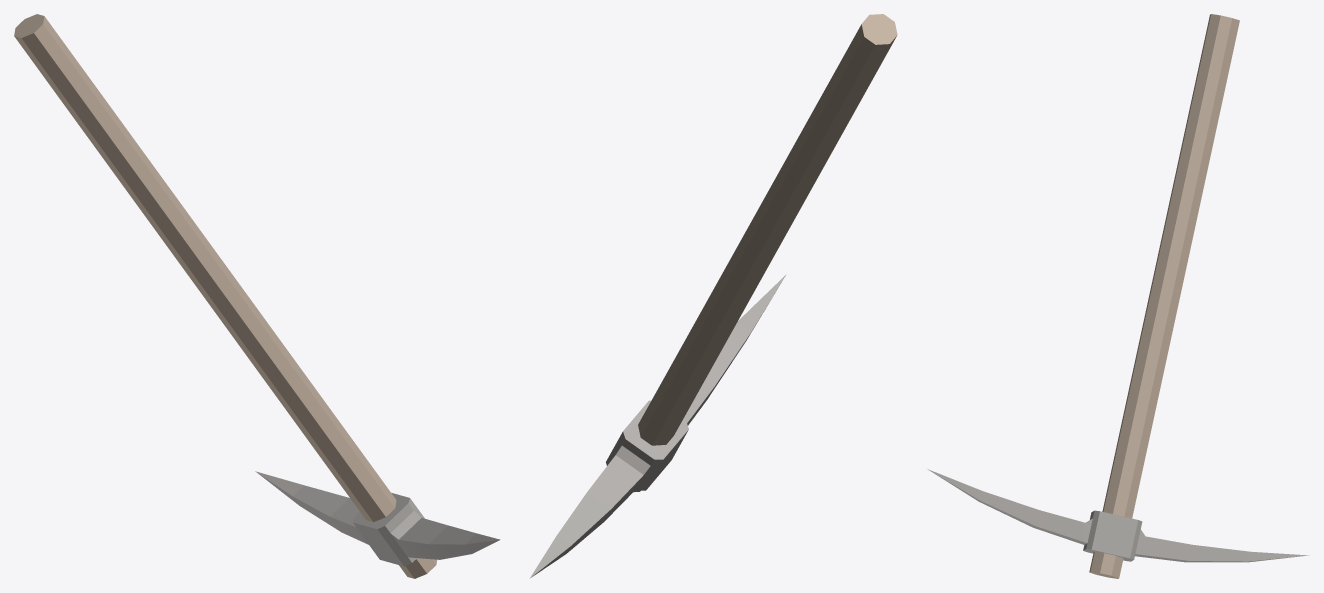
Rendered from Cave_Prop_Pick_Large.glb.
3 renders of one model, left to right at view 1: azimuth 30°, elevation 25°; view 2: azimuth 150°, elevation 25°; view 3: azimuth 270°, elevation 25°, orthographic. The views are drawn at different scales.
Parts seen in each view (by area): view 1: Cave_Prop_Pick_Large; view 2: Cave_Prop_Pick_Large; view 3: Cave_Prop_Pick_Large.
Boxes of the visible parts, bbox=[...] form: Cave_Prop_Pick_Large: bbox=[14, 14, 500, 578]; Cave_Prop_Pick_Large: bbox=[529, 14, 897, 578]; Cave_Prop_Pick_Large: bbox=[927, 14, 1308, 578].
Bounding box in the file's own units: 0.2238 × 0.3633 × 0.2797.
